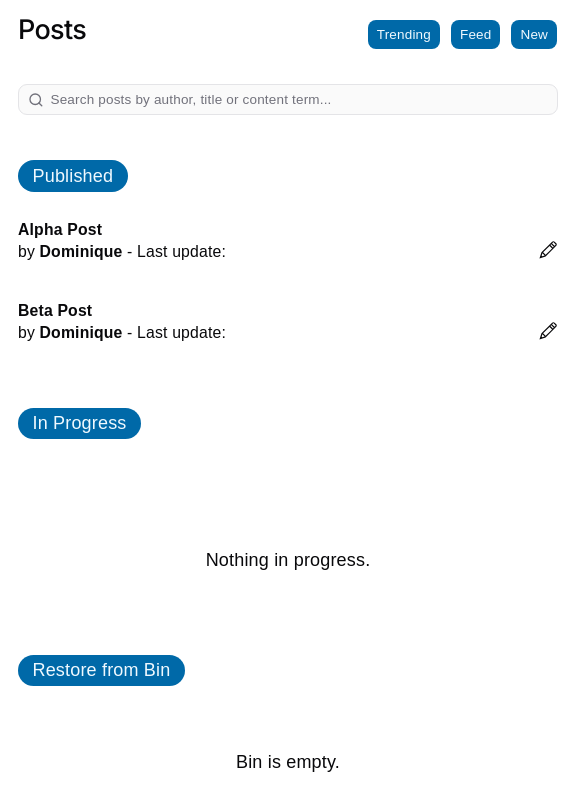
Test case: PostList › filters published posts via search
In the search field with placeholder "Search posts by author, title or content term...": (300, 100) [44,84,557,116], type "Alpha"
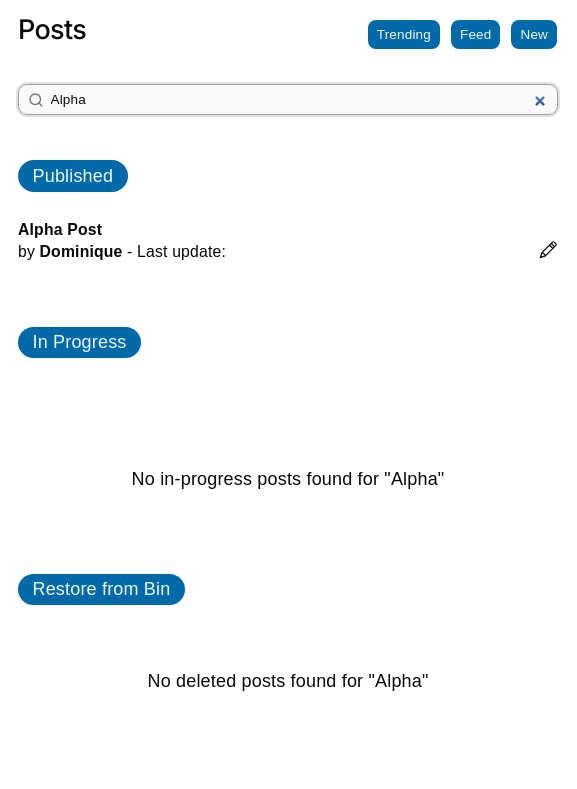
Expected: the text "Alpha Post" is shown, [18,221,102,238]
Result: the link "Beta Post" is gone
